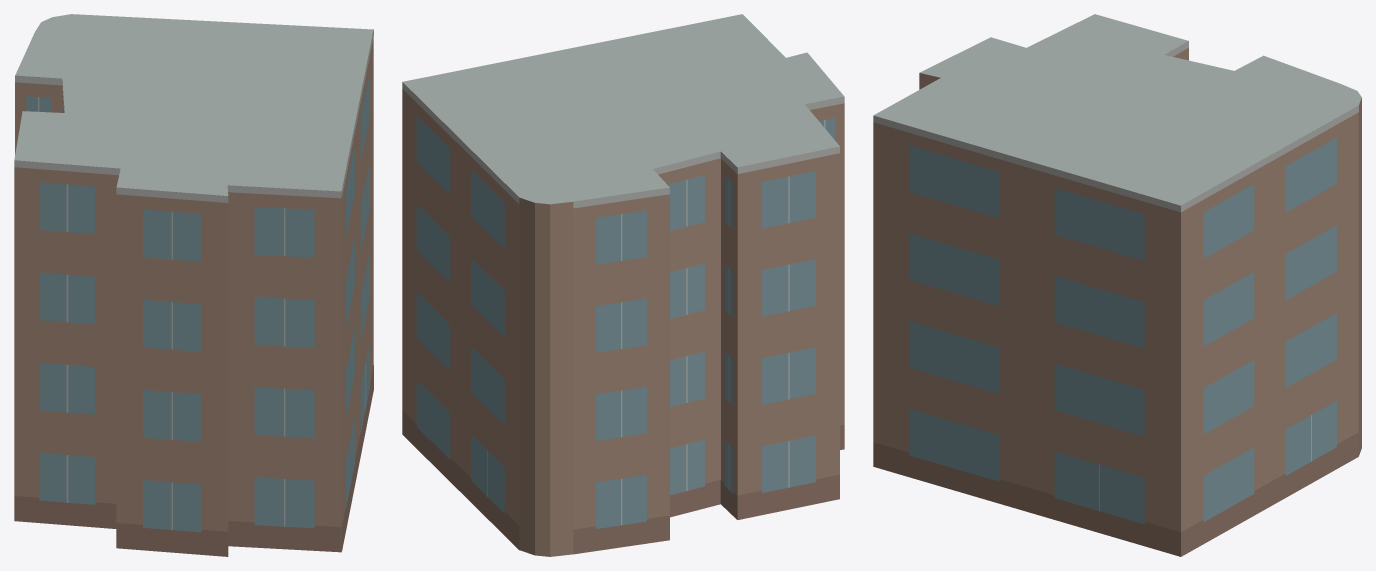
The model's file is survey-upis-32526276.glb.
The picture shows the model from 3 angles, left to right: view 1: azimuth 30°, elevation 25°; view 2: azimuth 150°, elevation 25°; view 3: azimuth 270°, elevation 25°; orthographic projection. The views are drawn at different scales.
Parts seen in each view (by area): view 1: survey-upis-32526276.tmp; view 2: survey-upis-32526276.tmp; view 3: survey-upis-32526276.tmp.
Boxes of the visible parts, x1,y1,x2,y2 form: survey-upis-32526276.tmp: (14,14,373,556); survey-upis-32526276.tmp: (402,14,844,556); survey-upis-32526276.tmp: (873,14,1361,556).
Bounding box in the file's own units: 14.99 × 12.8 × 16.15.
